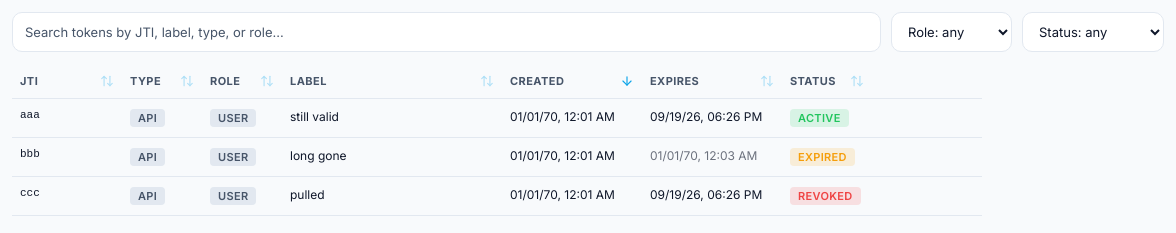
Test: MintedTokensTable › shows token status and filters by active only
Expected: the text "active" is shown, [790, 109, 849, 127]
Expected: the text "expired" is shown, [790, 148, 855, 166]
Select "Status: active" in the 2nd dropdown showing "status: any" at x=1093, y=32, box [1022, 12, 1164, 52]
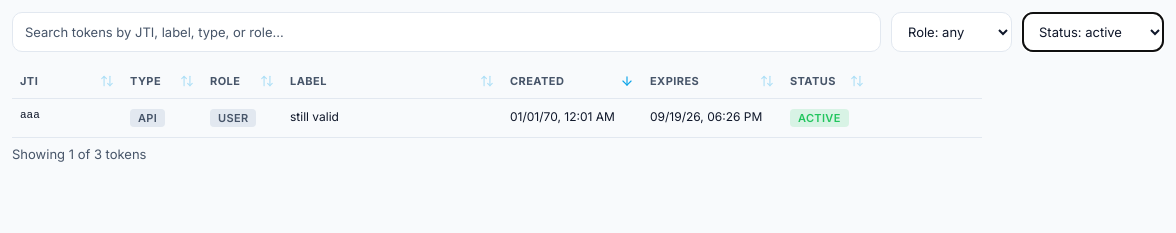
Expected: the text "aaa" is shown, [20, 109, 40, 121]
Expected: the text "bbb" is gone
Expected: the text "ccc" is gone
